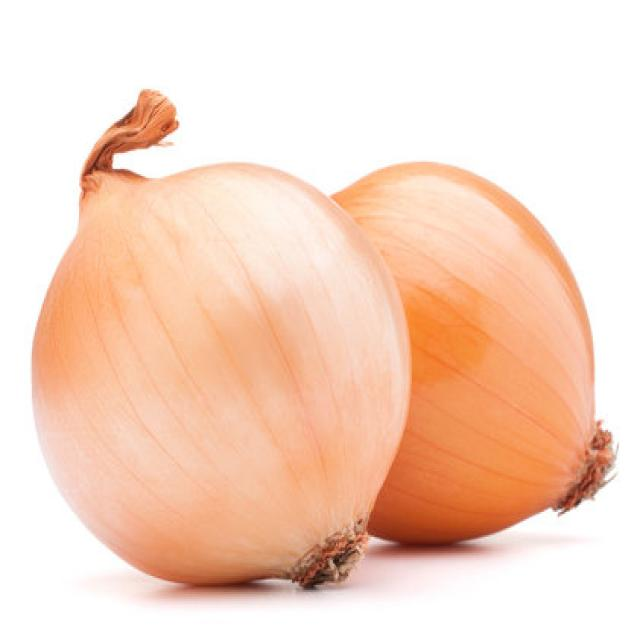Onion: (29, 87, 412, 590), (327, 158, 617, 546)
